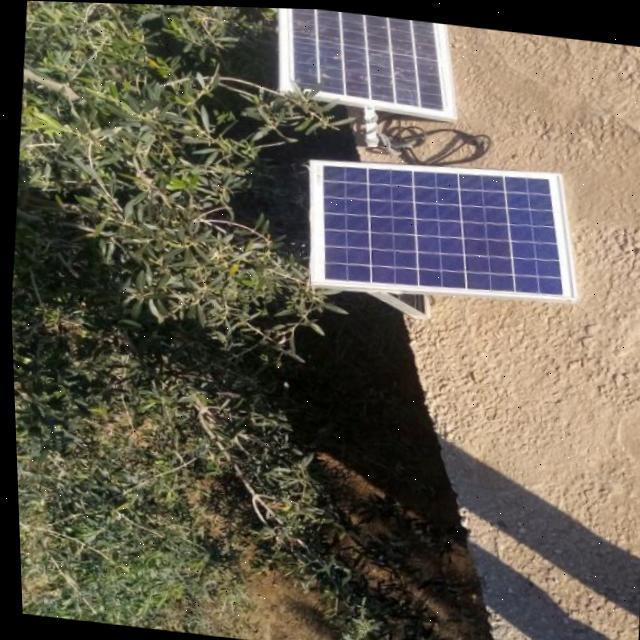Normal Solar Panel: (298, 140, 588, 311)
